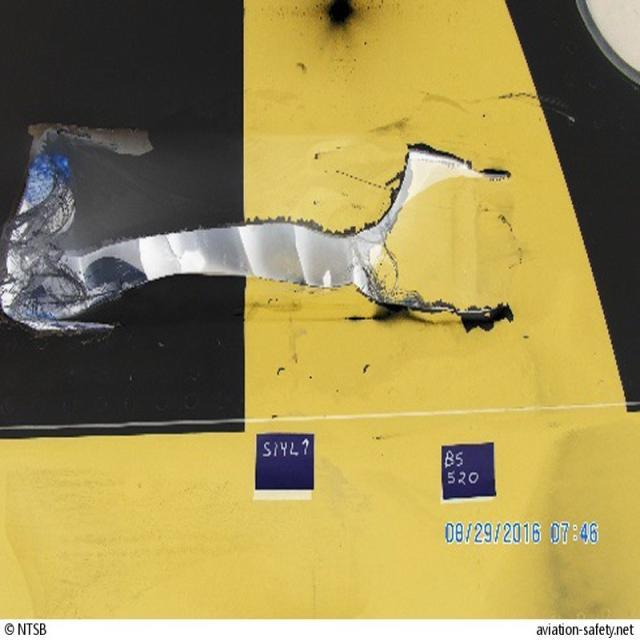crack: (389, 292, 511, 320)
